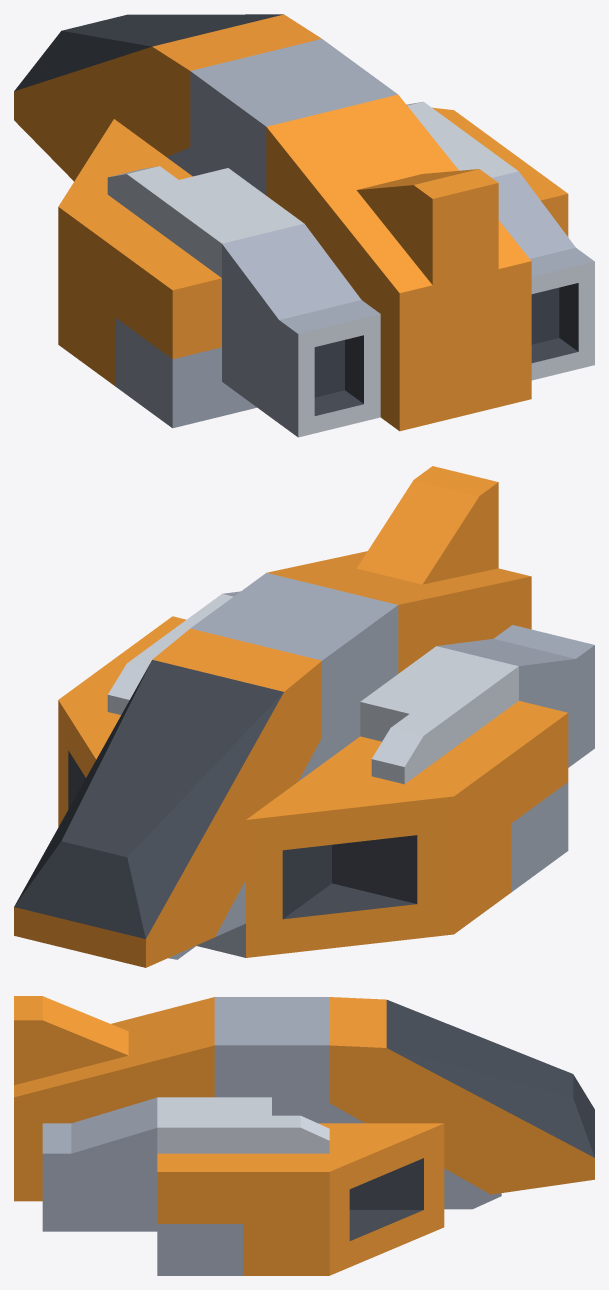
File: k-craft-racer.glb
3 views of the same model, one above another, from view 1: azimuth 30°, elevation 25°; view 2: azimuth 150°, elevation 25°; view 3: azimuth 270°, elevation 25° (orthographic). The views are drawn at different scales.
Parts seen in each view (by area): view 1: craft_racer; view 2: craft_racer; view 3: craft_racer.
Boxes of the visible parts, x1,y1,x2,y2 form: craft_racer: [14, 14, 594, 437]; craft_racer: [14, 466, 594, 967]; craft_racer: [14, 996, 594, 1275].
Bounding box in the file's own units: 1.2 × 0.75 × 2.03.
